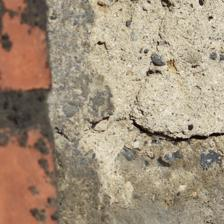Crack: (58, 56, 163, 92)
